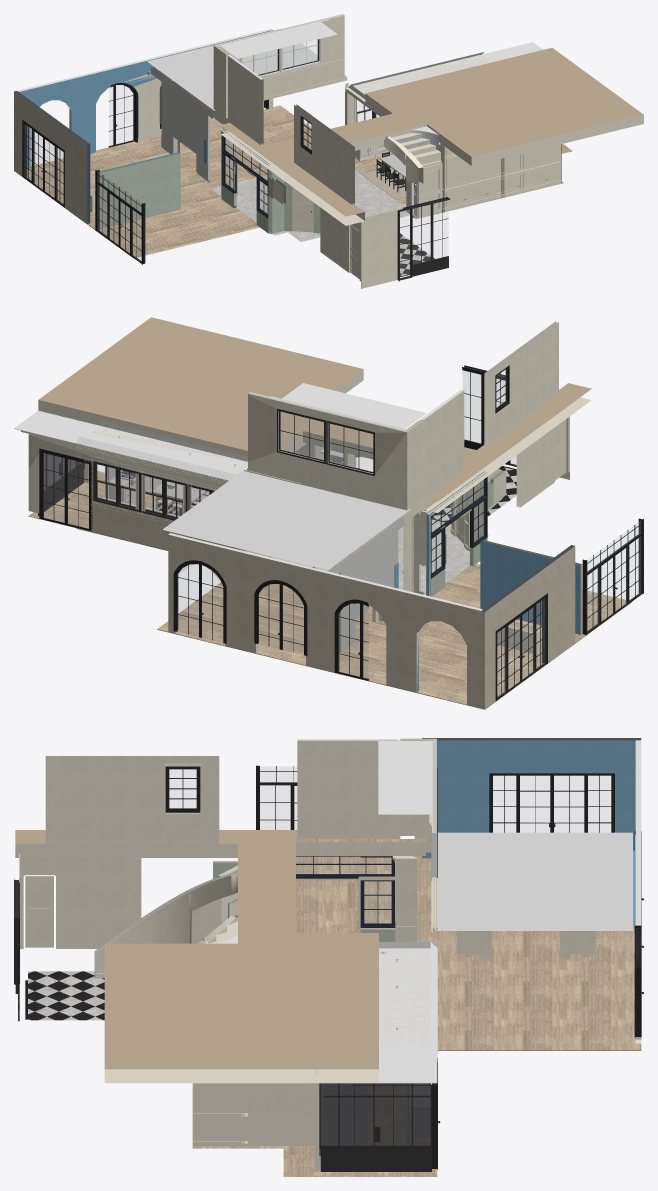
Rendered from kitchen-a968a5b0db17.glb.
3 views of the same model, one above another, from view 1: azimuth 30°, elevation 25°; view 2: azimuth 150°, elevation 25°; view 3: azimuth 270°, elevation 25° (orthographic). The views are drawn at different scales.
Parts seen in each view (by area): view 1: kitchen-look-2575515a05775d9e, kitchen-look-3b0077416469e01b, kitchen-look-969b861f9850351e, kitchen-look-b19b106fc304963c, kitchen-19647d6da46c2b80, kitchen-look-039192b0560cfac3, kitchen-look-698abdfdc6fb970d, kitchen-look-4a969f5cc1ae3dfe, kitchen-look-746250f96522f643, kitchen-look-55ff1dfd7b659ec1, kitchen-look-08d72923bcfd3529, kitchen-look-245f595ae2832e16 (+29 smaller); view 2: kitchen-look-2575515a05775d9e, kitchen-look-969b861f9850351e, kitchen-look-3b0077416469e01b, kitchen-look-4a969f5cc1ae3dfe, kitchen-look-245f595ae2832e16, kitchen-look-039192b0560cfac3, kitchen-look-746250f96522f643, kitchen-bfb9fa537cd11d1d, kitchen-look-08d72923bcfd3529, kitchen-look-b57b1dfcc6ff1bca, kitchen-look-7f59123d155b94ce, kitchen-look-9fbf623a647a21dd (+30 smaller); view 3: kitchen-look-2575515a05775d9e, kitchen-look-3b0077416469e01b, kitchen-look-4a969f5cc1ae3dfe, kitchen-look-746250f96522f643, kitchen-look-039192b0560cfac3, kitchen-look-7f59123d155b94ce, kitchen-look-85f0fd939e0fcc78, kitchen-look-9fbf623a647a21dd, kitchen-look-cbd4bf73d9724a66, kitchen-9a0e9ee9b2a451d7, kitchen-look-9d91b47435c6fb33, kitchen-5b6bbac285e58726 (+25 smaller).
Boxes of the visible parts, x1,y1,x2,y2 form: kitchen-look-2575515a05775d9e: [221, 47, 643, 225]; kitchen-look-3b0077416469e01b: [14, 105, 572, 257]; kitchen-look-969b861f9850351e: [17, 28, 273, 168]; kitchen-look-b19b106fc304963c: [99, 152, 180, 229]; kitchen-19647d6da46c2b80: [444, 144, 560, 207]; kitchen-look-039192b0560cfac3: [14, 91, 90, 223]; kitchen-look-698abdfdc6fb970d: [397, 197, 450, 281]; kitchen-look-4a969f5cc1ae3dfe: [147, 28, 346, 110]; kitchen-look-746250f96522f643: [294, 104, 354, 205]; kitchen-look-55ff1dfd7b659ec1: [151, 67, 214, 180]; kitchen-look-08d72923bcfd3529: [95, 169, 145, 264]; kitchen-look-245f595ae2832e16: [213, 14, 344, 108]; kitchen-look-2575515a05775d9e: [38, 317, 591, 512]; kitchen-look-969b861f9850351e: [168, 533, 482, 707]; kitchen-look-3b0077416469e01b: [28, 471, 631, 709]; kitchen-look-4a969f5cc1ae3dfe: [162, 470, 410, 570]; kitchen-look-245f595ae2832e16: [248, 392, 407, 510]; kitchen-look-039192b0560cfac3: [481, 545, 575, 708]; kitchen-look-746250f96522f643: [484, 321, 558, 445]; kitchen-bfb9fa537cd11d1d: [76, 444, 246, 551]; kitchen-look-08d72923bcfd3529: [582, 518, 643, 635]; kitchen-look-b57b1dfcc6ff1bca: [173, 560, 226, 643]; kitchen-look-7f59123d155b94ce: [418, 389, 464, 511]; kitchen-look-9fbf623a647a21dd: [495, 593, 547, 701]; kitchen-look-2575515a05775d9e: [15, 830, 378, 1083]; kitchen-look-3b0077416469e01b: [283, 856, 641, 1176]; kitchen-look-4a969f5cc1ae3dfe: [437, 832, 632, 930]; kitchen-look-746250f96522f643: [45, 756, 219, 843]; kitchen-look-039192b0560cfac3: [422, 738, 641, 858]; kitchen-look-7f59123d155b94ce: [297, 739, 400, 838]; kitchen-look-85f0fd939e0fcc78: [19, 858, 141, 948]; kitchen-look-9fbf623a647a21dd: [489, 773, 614, 832]; kitchen-look-cbd4bf73d9724a66: [319, 1083, 430, 1155]; kitchen-9a0e9ee9b2a451d7: [379, 948, 436, 1045]; kitchen-look-9d91b47435c6fb33: [378, 741, 431, 814]; kitchen-5b6bbac285e58726: [246, 1083, 314, 1147].
Bounding box in the file's own units: 20.89 × 6.36 × 16.86.
Materials: 63 (13 with a texture image).
